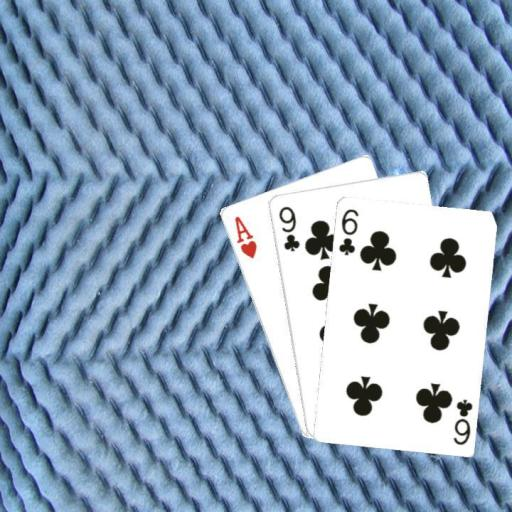6C: (335, 205, 360, 256), (450, 395, 474, 446)
9C: (274, 203, 301, 253)
AH: (231, 213, 258, 260)
